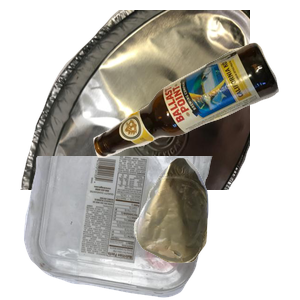glass: (91, 40, 300, 190)
metal: (18, 10, 258, 190)
plastic: (21, 156, 226, 300)
trash: (131, 155, 300, 300)
